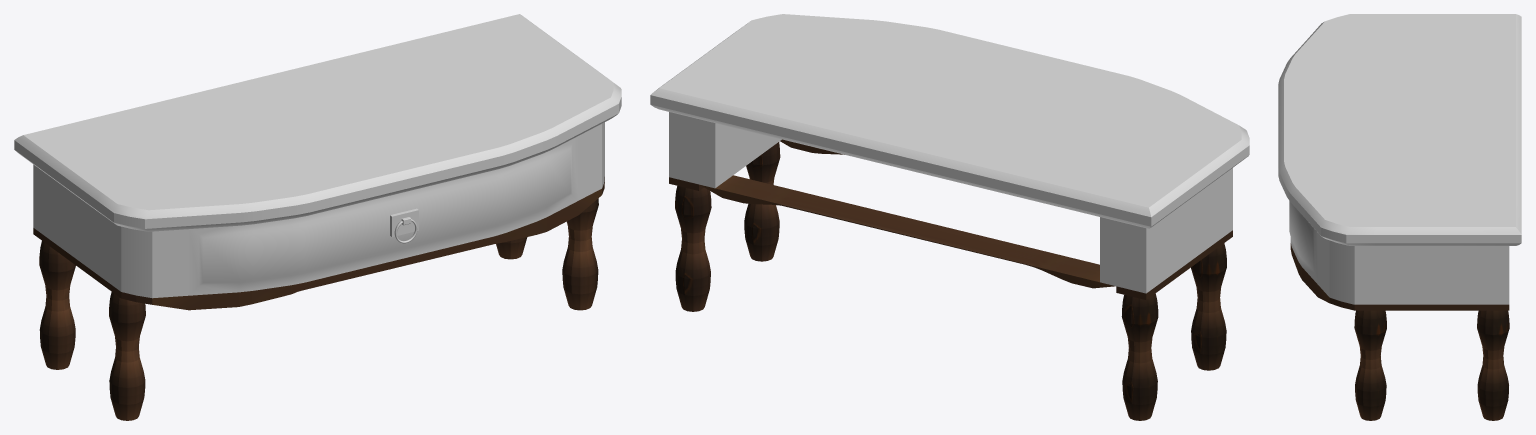
The model's file is TVStand.fbx.
The picture shows the model from 3 angles, left to right: view 1: azimuth 30°, elevation 25°; view 2: azimuth 150°, elevation 25°; view 3: azimuth 270°, elevation 25°; orthographic projection. The views are drawn at different scales.
Parts seen in each view (by area): view 1: Box044, Object036, Object035; view 2: Box044, Object035, Object036; view 3: Box044, Object036, Object035.
Part boxes in pixels (x1,y1,x2,y2): Box044: (14,14,621,298); Object036: (51,177,604,420); Object035: (33,228,527,369); Box044: (650,14,1249,293); Object035: (669,175,1164,420); Object036: (744,139,1232,370); Box044: (1278,14,1521,304); Object036: (1290,243,1477,420); Object035: (1477,304,1509,420).
Bounding box in the file's own units: 8.42 × 3.97 × 3.58.
Materials: 1 (1 with a texture image).
